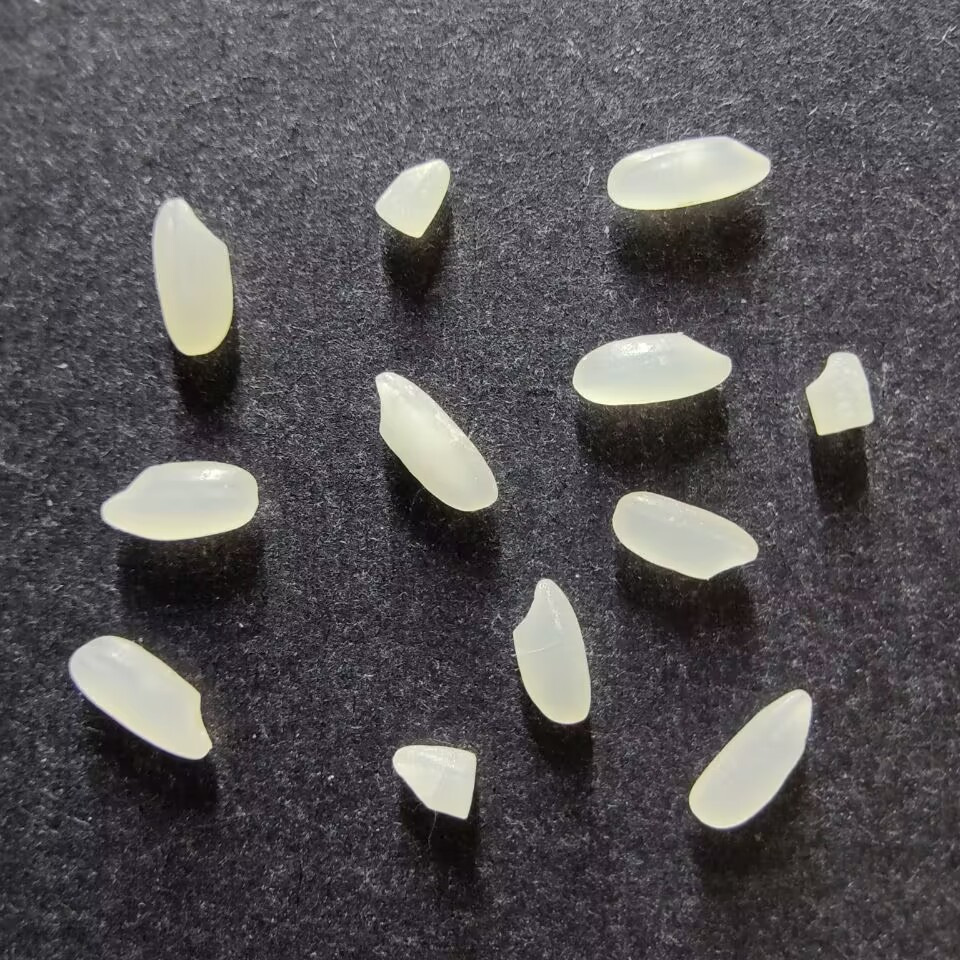broken: (391, 744, 478, 820), (373, 158, 450, 239), (804, 351, 874, 436)
rice: (68, 634, 212, 759), (687, 688, 814, 829), (373, 370, 499, 512), (611, 490, 758, 581), (99, 460, 259, 541), (152, 197, 233, 356), (605, 135, 771, 210), (571, 331, 733, 406), (512, 577, 591, 725)
